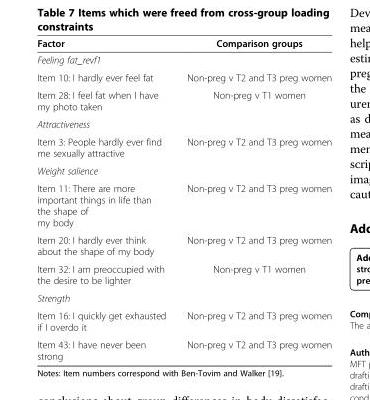table: (36, 37, 331, 361)
table column: (175, 37, 331, 361), (36, 37, 175, 361)
table column header: (36, 37, 331, 51)
table projected row header: (36, 114, 331, 132), (36, 161, 331, 179), (36, 288, 331, 306), (36, 51, 331, 68)
table row: (36, 179, 331, 230), (36, 85, 331, 114), (36, 132, 331, 161), (36, 230, 331, 259), (36, 259, 331, 288), (36, 306, 331, 335), (36, 335, 331, 361), (36, 114, 331, 132), (36, 161, 331, 179), (36, 288, 331, 306), (36, 51, 331, 68), (36, 68, 331, 85), (36, 37, 331, 51)
